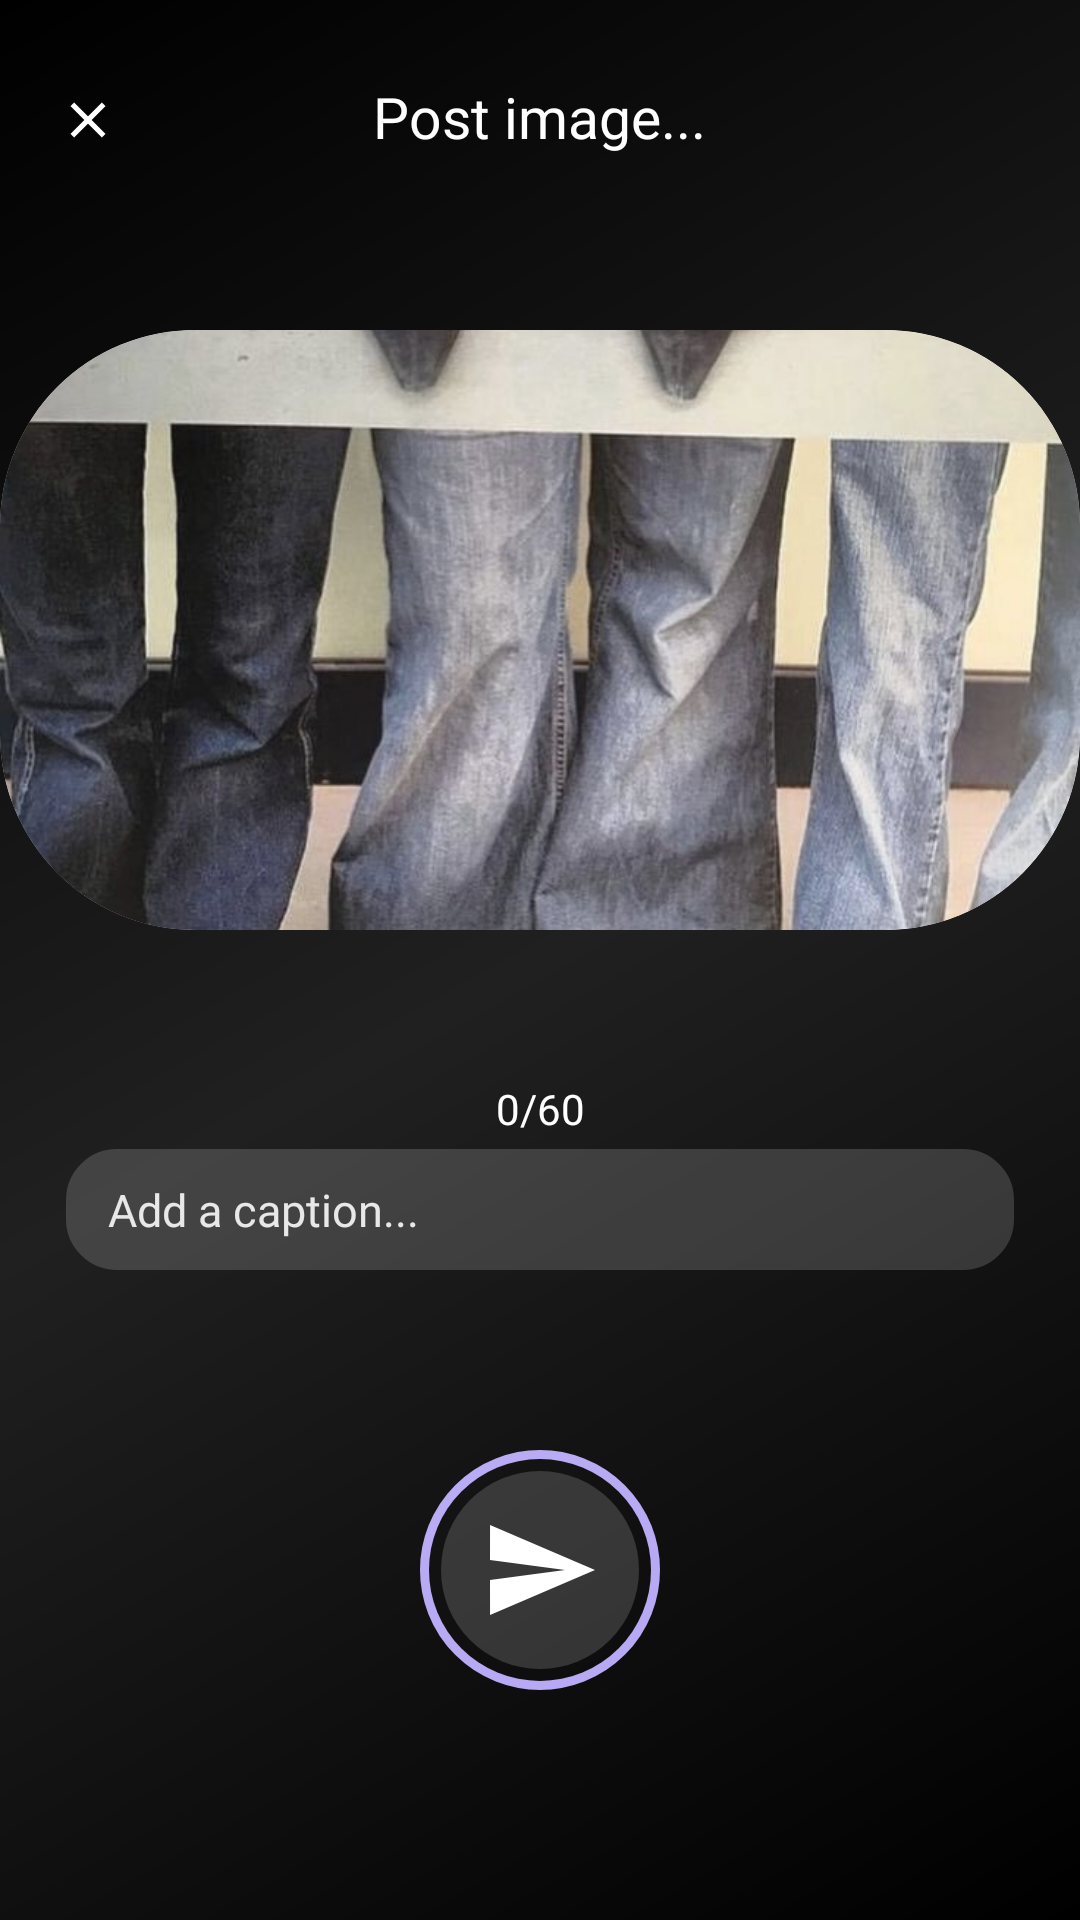

Named icons in this screenshot (1080 × 1920) and their bounding boxes, (x1, y1, x2, y2):
close: (70, 102, 106, 138)
